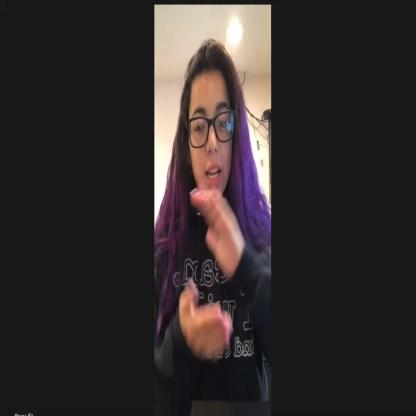NiceToMeetYou: (173, 176, 249, 370)
